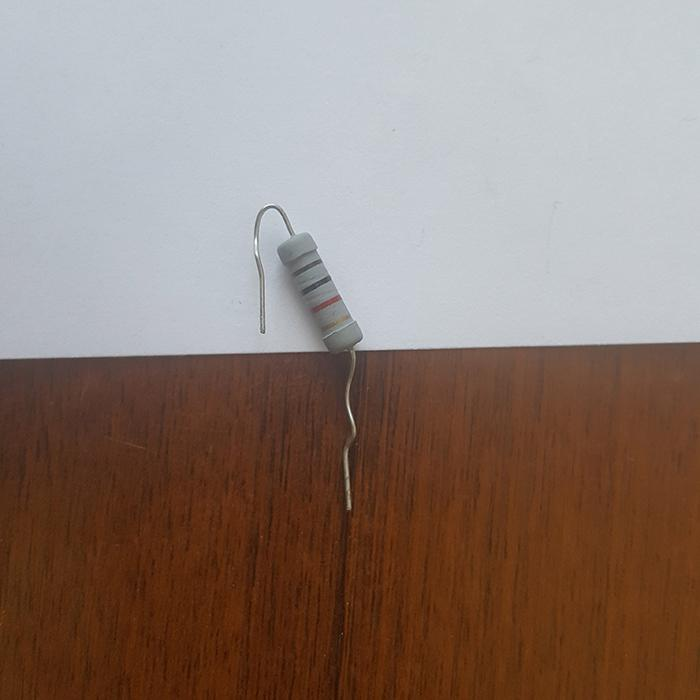resistor: (275, 231, 362, 352)
